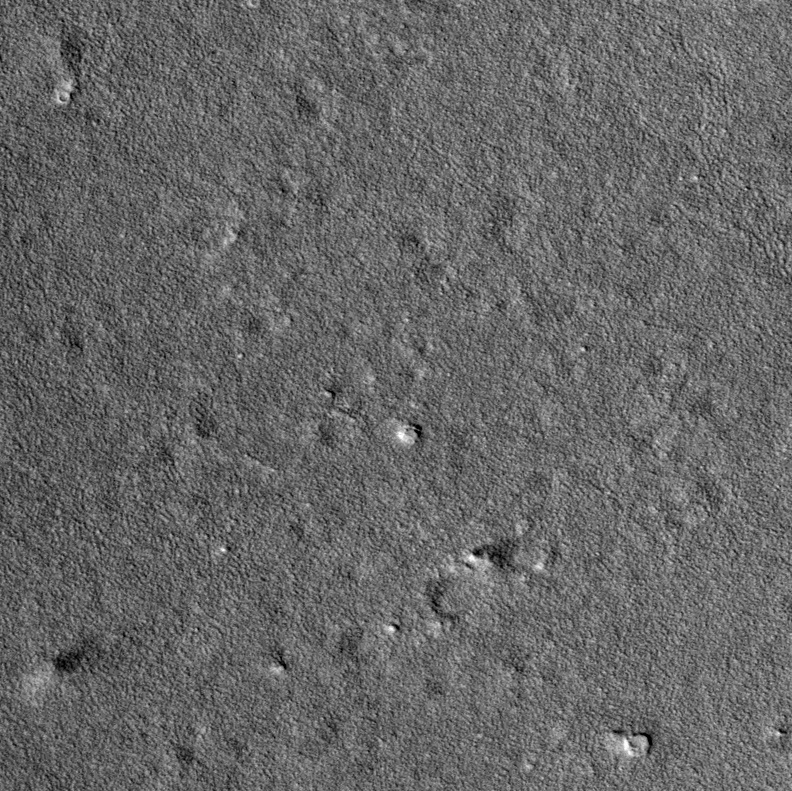dust_devil: (20, 644, 86, 698), (465, 537, 521, 574)
